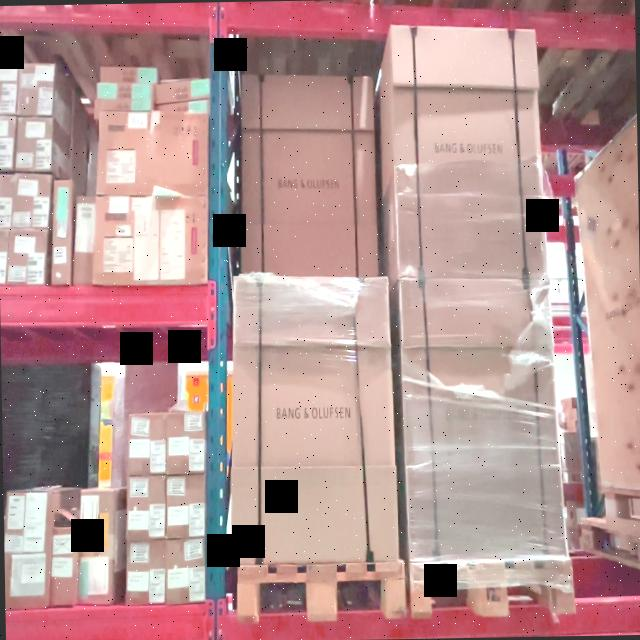box: (226, 271, 395, 564), (398, 277, 562, 556), (389, 26, 545, 280), (240, 72, 380, 278)
